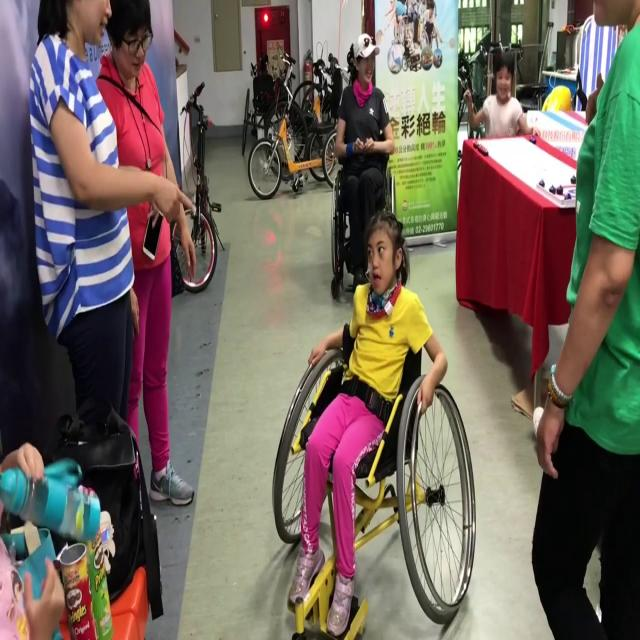wheelchairs: (266, 294, 489, 640)
